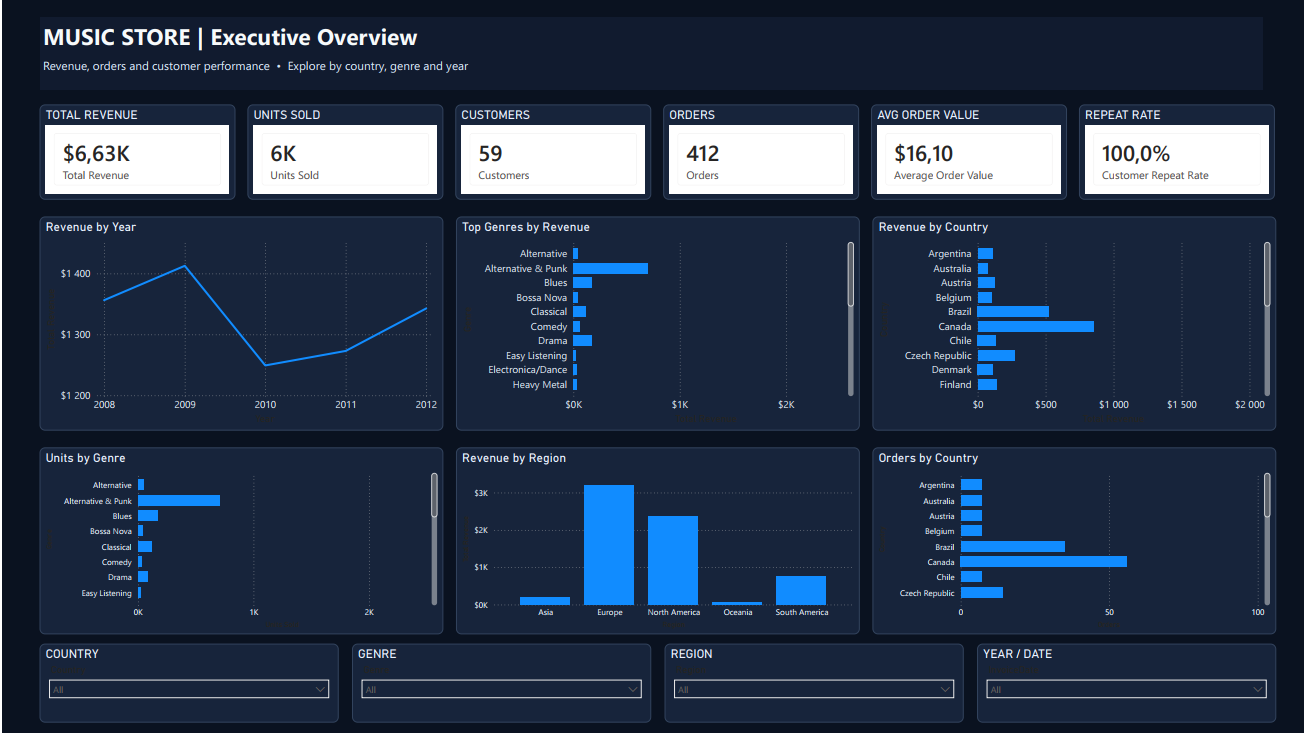

This screenshot's page, from the dashboard's own definition file:
{"tool":"powerbi","page":{"name":"Executive Overview","canvas":[1920,1080],"ordinal":0},"visuals":[{"type":"textbox","box":[55,26,1800,54],"z":100},{"type":"textbox","box":[55,80,1800,54],"z":101},{"type":"cardVisual","title":"TOTAL REVENUE","fields":{"Data":["Music Sales.Total Revenue"]},"box":[55,155,288,140],"z":102},{"type":"cardVisual","title":"UNITS SOLD","fields":{"Data":["Music Sales.Units Sold"]},"box":[361,155,288,140],"z":103},{"type":"cardVisual","title":"CUSTOMERS","fields":{"Data":["Music Sales.Customers"]},"box":[667,155,288,140],"z":104},{"type":"cardVisual","title":"ORDERS","fields":{"Data":["Music Sales.Orders"]},"box":[973,155,288,140],"z":105},{"type":"cardVisual","title":"AVG ORDER VALUE","fields":{"Data":["Music Sales.Average Order Value"]},"box":[1279,155,288,140],"z":106},{"type":"cardVisual","title":"REPEAT RATE","fields":{"Data":["Music Sales.Customer Repeat Rate"]},"box":[1585,155,288,140],"z":107},{"type":"lineChart","title":"Revenue by Year","fields":{"Category":["Music Sales.InvoiceDate.Variation.Date Hierarchy.Year"],"Y":["Music Sales.Total Revenue"]},"box":[55,320,594,315],"z":108},{"type":"barChart","title":"Top Genres by Revenue","fields":{"Category":["Music Sales.Genre"],"Y":["Music Sales.Total Revenue"]},"box":[668,320,594,315],"z":109},{"type":"barChart","title":"Revenue by Country","fields":{"Category":["Music Sales.Country"],"Y":["Music Sales.Total Revenue"]},"box":[1281,320,594,315],"z":110},{"type":"barChart","title":"Units by Genre","fields":{"Category":["Music Sales.Genre"],"Y":["Music Sales.Units Sold"]},"box":[55,660,594,275],"z":111},{"type":"clusteredColumnChart","title":"Revenue by Region","fields":{"Category":["Music Sales.Region"],"Y":["Music Sales.Total Revenue"]},"box":[668,660,594,275],"z":112},{"type":"barChart","title":"Orders by Country","fields":{"Category":["Music Sales.Country"],"Y":["Music Sales.Orders"]},"box":[1281,660,594,275],"z":113},{"type":"slicer","title":"COUNTRY","fields":{"Values":["Music Sales.Country"]},"box":[55,949,440,116],"z":114},{"type":"slicer","title":"GENRE","fields":{"Values":["Music Sales.Genre"]},"box":[515,949,440,116],"z":115},{"type":"slicer","title":"REGION","fields":{"Values":["Music Sales.Region"]},"box":[975,949,440,116],"z":116},{"type":"slicer","title":"YEAR / DATE","fields":{"Values":["Music Sales.InvoiceDate"]},"box":[1435,949,440,116],"z":117}]}

Visuals, with their boxes in screenshot pixels (x1, y1, x2, y2), scaled from the page's 1920x1080 canvas onto the 1304x734 screenshot:
textbox: select_region(37, 18, 1260, 54)
textbox: select_region(37, 54, 1260, 91)
"TOTAL REVENUE" cardVisual: select_region(37, 105, 233, 200)
"UNITS SOLD" cardVisual: select_region(245, 105, 441, 200)
"CUSTOMERS" cardVisual: select_region(453, 105, 649, 200)
"ORDERS" cardVisual: select_region(661, 105, 856, 200)
"AVG ORDER VALUE" cardVisual: select_region(869, 105, 1064, 200)
"REPEAT RATE" cardVisual: select_region(1076, 105, 1272, 200)
"Revenue by Year" lineChart: select_region(37, 217, 441, 432)
"Top Genres by Revenue" barChart: select_region(454, 217, 857, 432)
"Revenue by Country" barChart: select_region(870, 217, 1273, 432)
"Units by Genre" barChart: select_region(37, 449, 441, 635)
"Revenue by Region" clusteredColumnChart: select_region(454, 449, 857, 635)
"Orders by Country" barChart: select_region(870, 449, 1273, 635)
"COUNTRY" slicer: select_region(37, 645, 336, 724)
"GENRE" slicer: select_region(350, 645, 649, 724)
"REGION" slicer: select_region(662, 645, 961, 724)
"YEAR / DATE" slicer: select_region(975, 645, 1273, 724)
